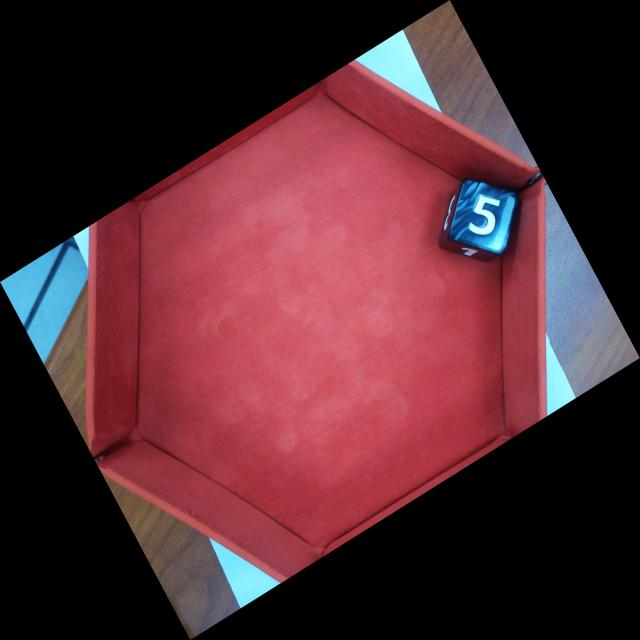dice: (447, 182, 514, 250)
